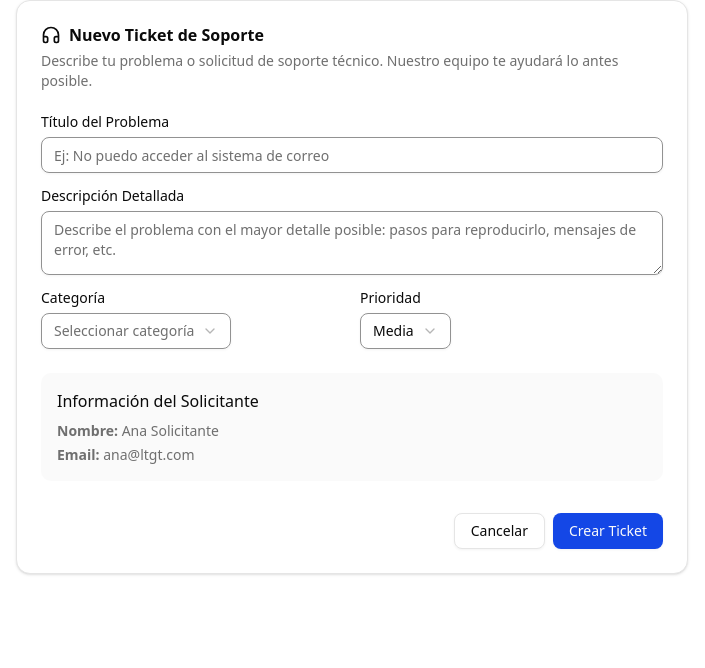
Test: TicketForm › shows the errors next to each field before sending
Click the button "Crear Ticket".
click(608, 531)  # box [553,513,663,549]
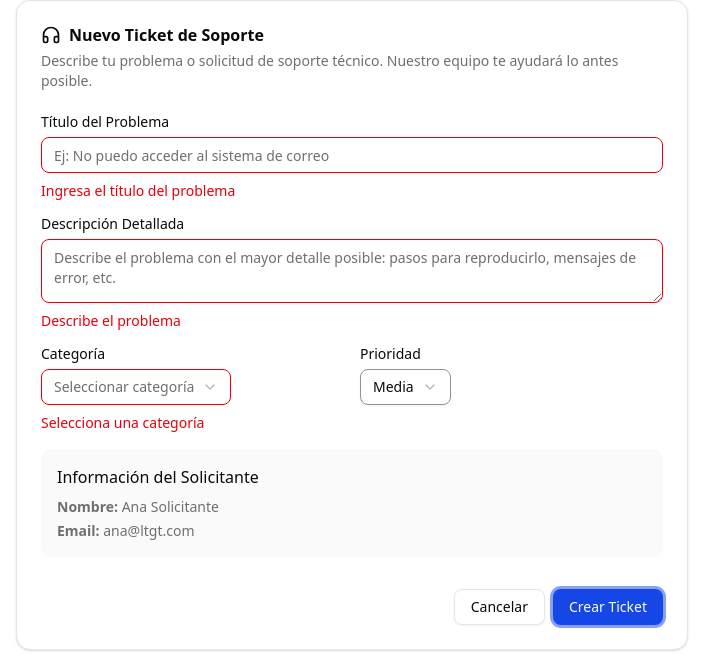
expect the text "Ingresa el título del problema" is shown: met, box [41,181,235,200]
expect the text "Describe el problema" is shown: met, box [41,311,181,330]
expect the text "Selecciona una categoría" is shown: met, box [41,413,204,432]
